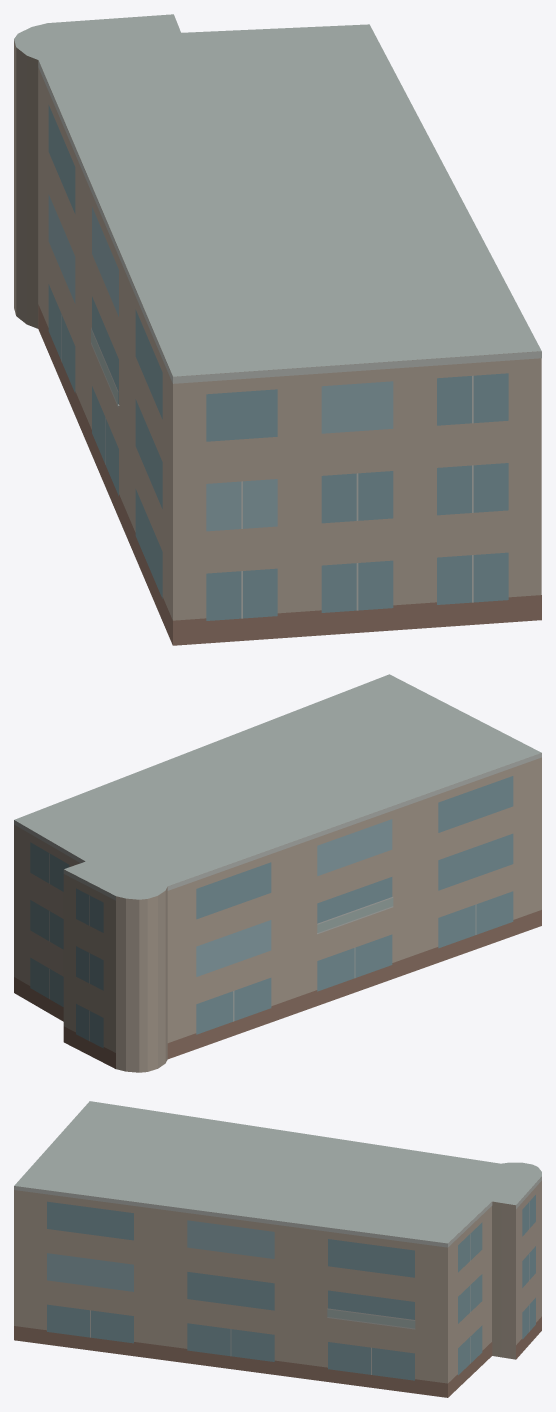
File: survey-upis-32883283.glb
The picture shows the model from 3 angles, top to bottom: view 1: azimuth 30°, elevation 25°; view 2: azimuth 150°, elevation 25°; view 3: azimuth 270°, elevation 25°; orthographic projection. The views are drawn at different scales.
Visible parts, largest first — view 1: survey-upis-32883283.tmp; view 2: survey-upis-32883283.tmp; view 3: survey-upis-32883283.tmp.
Boxes of the visible parts, <box> form: survey-upis-32883283.tmp: <box>14,14,541,645</box>; survey-upis-32883283.tmp: <box>14,674,541,1072</box>; survey-upis-32883283.tmp: <box>14,1101,541,1397</box>.
Bounding box in the file's own units: 18.11 × 9.15 × 28.36.
